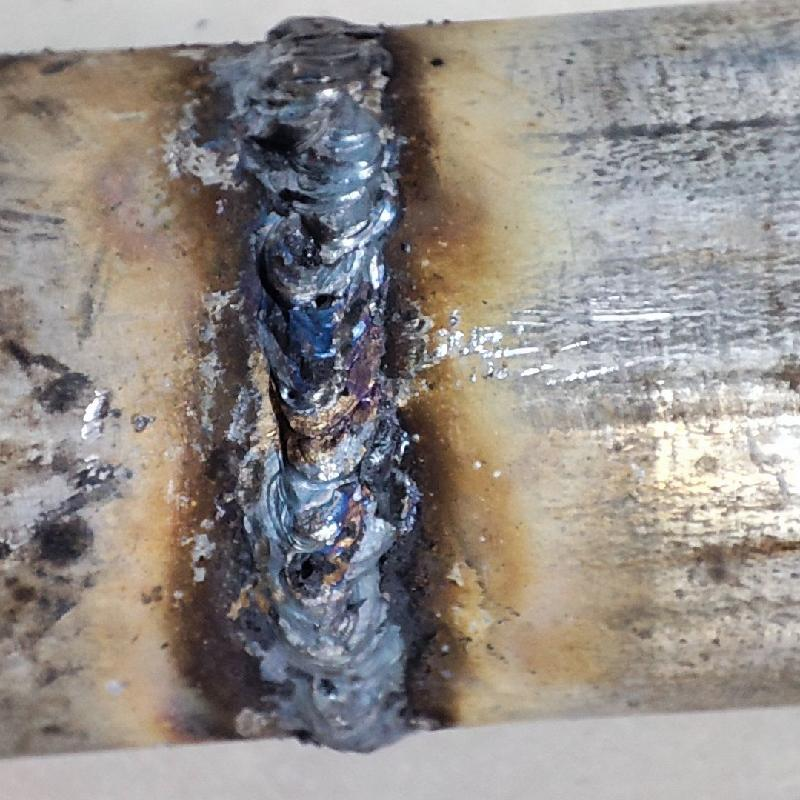Surface_pores: (282, 543, 334, 602), (301, 277, 347, 324)
